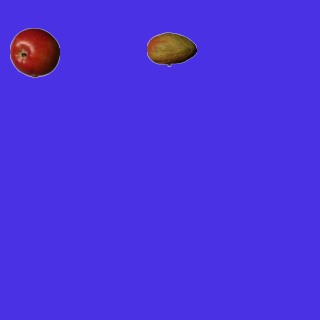Apple Braeburn: (9, 27, 59, 77)
Papaya: (146, 24, 196, 74)
